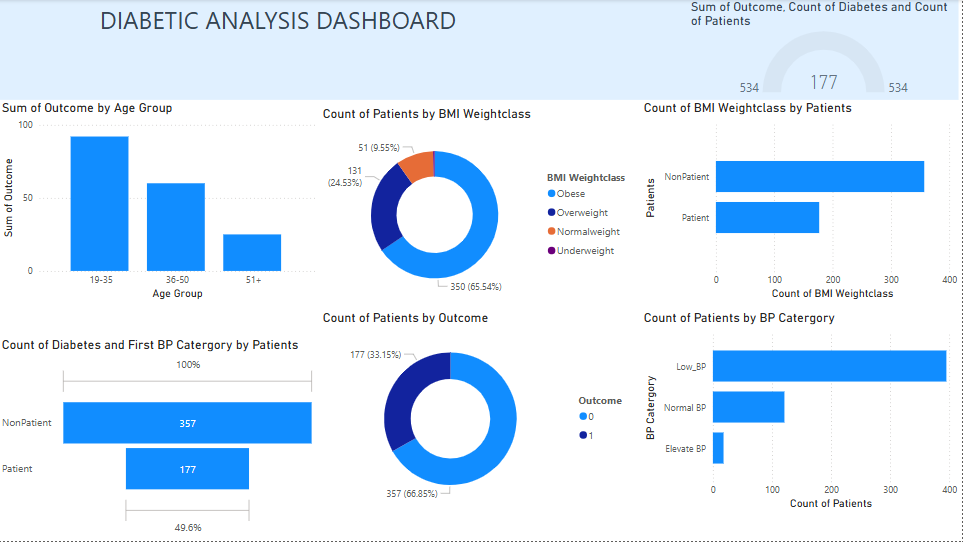

Layout of this report page (visuals, bound fields, positions):
{"tool":"powerbi","page":{"name":"Page 1","canvas":[1280,720],"ordinal":0},"visuals":[{"type":"shape","box":[0,265.9,1280.2,134.4],"z":0},{"type":"donutChart","fields":{"Category":["DataSet 2.BMI Weightclass"],"Y":["CountNonNull(DataSet 2.Patients)"]},"box":[426.7,142.8,426.7,270.4],"z":1000},{"type":"gauge","fields":{"Y":["Sum(DataSet 2.Outcome)"],"MinValue":["CountNonNull(DataSet 2.Diabetes)"],"MaxValue":["CountNonNull(DataSet 2.Patients)"]},"box":[915.5,0,364.5,134.4],"z":2000},{"type":"barChart","fields":{"Category":["DataSet 2.Patients"],"Y":["CountNonNull(DataSet 2.BMI Weightclass)"]},"box":[853.3,134.4,426.7,270.4],"z":3000},{"type":"clusteredColumnChart","fields":{"Category":["DataSet 2.Age Group"],"Y":["Sum(DataSet 2.Outcome)"]},"box":[0,134.4,426.7,270.4],"z":4000},{"type":"donutChart","fields":{"Category":["DataSet 2.Outcome"],"Y":["CountNonNull(DataSet 2.Patients)"]},"box":[426.7,413.2,426.7,270.4],"z":5000},{"type":"barChart","fields":{"Category":["DataSet 2.BP Catergory"],"Y":["CountNonNull(DataSet 2.Patients)"]},"box":[853.3,413.2,426.7,270.4],"z":6000},{"type":"textbox","box":[130,0,758.8,79.2],"z":7000},{"type":"funnel","fields":{"Category":["DataSet 2.Patients"],"Y":["CountNonNull(DataSet 2.Diabetes)"]},"box":[0,449.6,427.2,270.4],"z":8000},{"type":"shape","box":[0,0,1280.2,134.4],"z":9000}]}

Visuals, with their boxes in screenshot pixels (x1, y1, x2, y2), scaled from the page's 1280x720 canvas onto the 963x542 screenshot:
shape: [0,200,962,301]
donutChart - DataSet 2.BMI Weightclass x CountNonNull(DataSet 2.Patients): [321,107,642,311]
gauge - Sum(DataSet 2.Outcome) x CountNonNull(DataSet 2.Diabetes): [689,0,962,101]
barChart - DataSet 2.Patients x CountNonNull(DataSet 2.BMI Weightclass): [642,101,962,305]
clusteredColumnChart - DataSet 2.Age Group x Sum(DataSet 2.Outcome): [0,101,321,305]
donutChart - DataSet 2.Outcome x CountNonNull(DataSet 2.Patients): [321,311,642,515]
barChart - DataSet 2.BP Catergory x CountNonNull(DataSet 2.Patients): [642,311,962,515]
textbox: [98,0,669,60]
funnel - DataSet 2.Patients x CountNonNull(DataSet 2.Diabetes): [0,338,321,541]
shape: [0,0,962,101]
